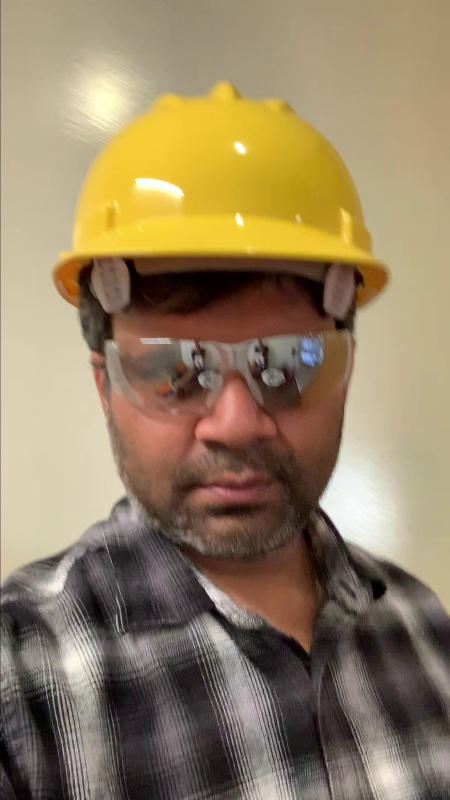glasses: (98, 331, 355, 407)
helmet: (58, 77, 390, 269)
